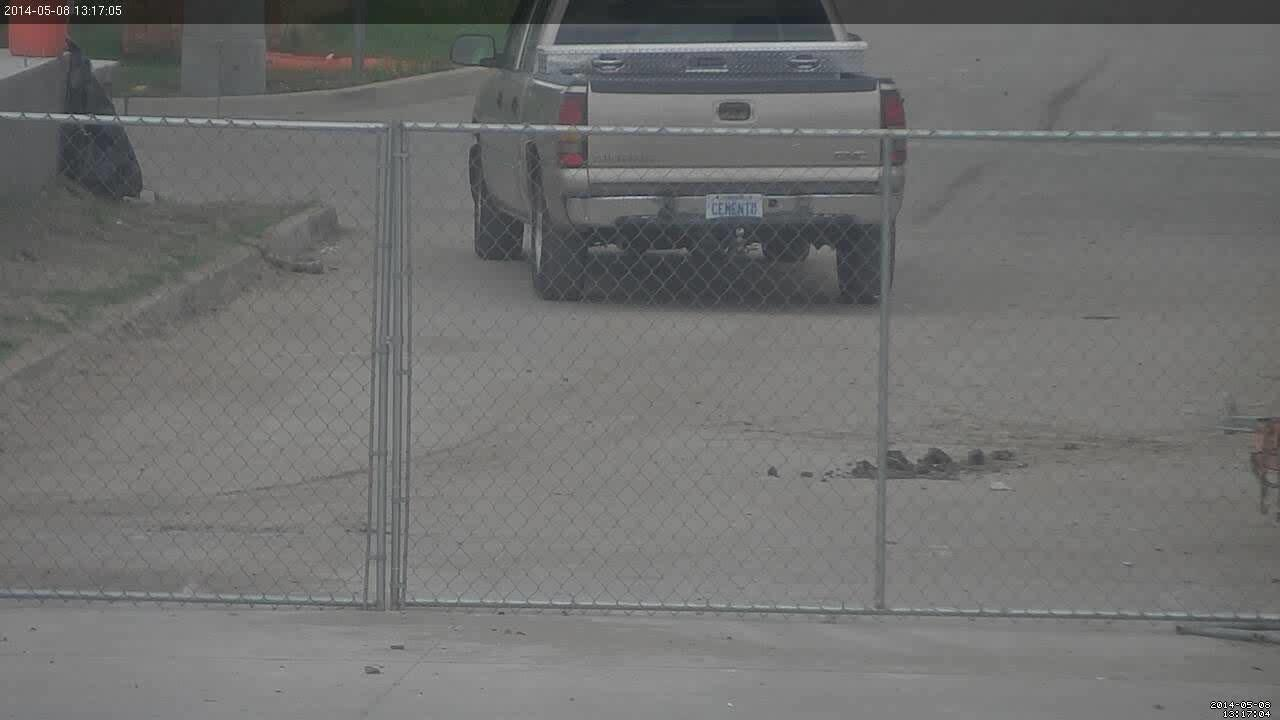placa de veiculo: (696, 181, 786, 224)
